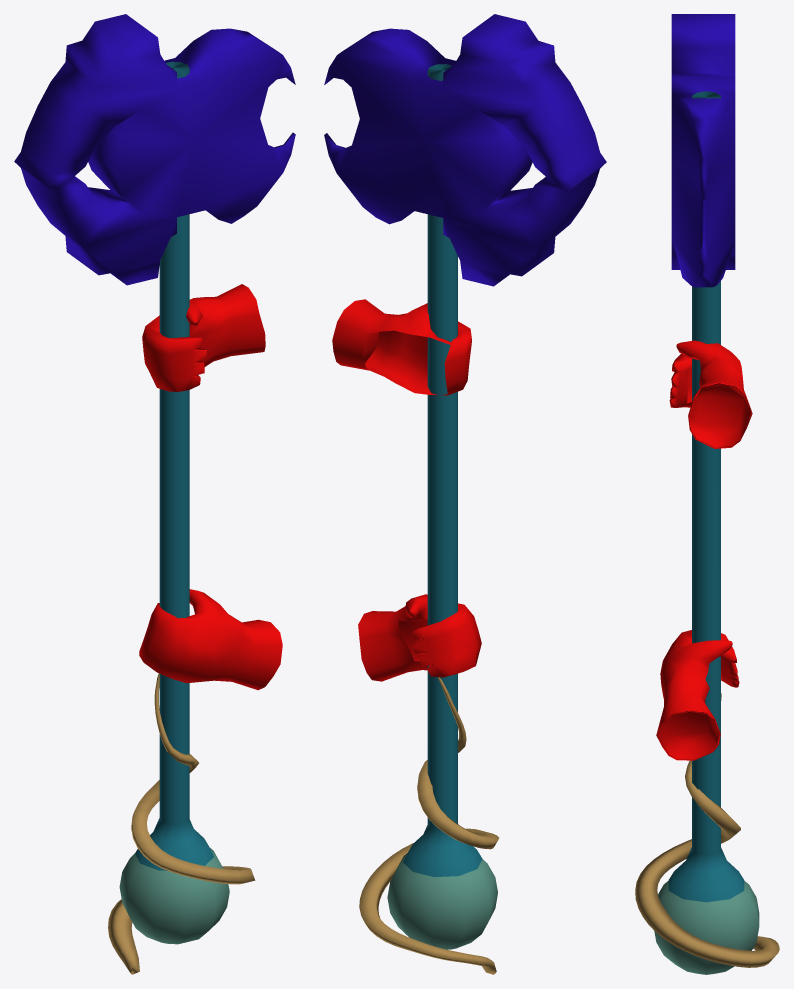
Rendered from weapon_LP-A.fbx.
3 renders of one model, left to right at view 1: azimuth 30°, elevation 25°; view 2: azimuth 150°, elevation 25°; view 3: azimuth 270°, elevation 25°, orthographic.
Parts seen in each view (by area): view 1: head_LP, manche_LP, handL_LP, handR_LP, sphere_LP, spirale_LP; view 2: head_LP, manche_LP, handR_LP, handL_LP, sphere_LP, spirale_LP; view 3: head_LP, manche_LP, handL_LP, handR_LP, spirale_LP, sphere_LP.
Boxes of the visible parts, bbox=[...] form: head_LP: bbox=[14, 14, 295, 285]; manche_LP: bbox=[135, 61, 213, 870]; handL_LP: bbox=[139, 589, 282, 690]; handR_LP: bbox=[142, 284, 265, 391]; sphere_LP: bbox=[119, 847, 229, 944]; spirale_LP: bbox=[108, 673, 255, 974]; head_LP: bbox=[324, 14, 606, 286]; manche_LP: bbox=[403, 64, 482, 877]; handR_LP: bbox=[332, 299, 471, 395]; handL_LP: bbox=[358, 594, 481, 681]; sphere_LP: bbox=[387, 853, 497, 949]; spirale_LP: bbox=[359, 677, 499, 974]; head_LP: bbox=[671, 14, 735, 287]; manche_LP: bbox=[668, 91, 744, 902]; handL_LP: bbox=[656, 630, 739, 760]; handR_LP: bbox=[669, 340, 752, 448]; spirale_LP: bbox=[635, 693, 779, 967]; sphere_LP: bbox=[654, 881, 759, 974].
Bounding box in the file's own units: 4.11 × 14.03 × 1.94.
